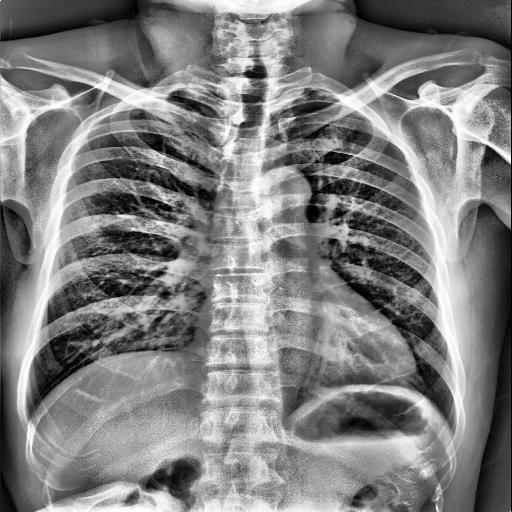0- Aortic enlargement: (254, 168, 312, 230), (250, 166, 314, 214), (254, 166, 312, 216)
